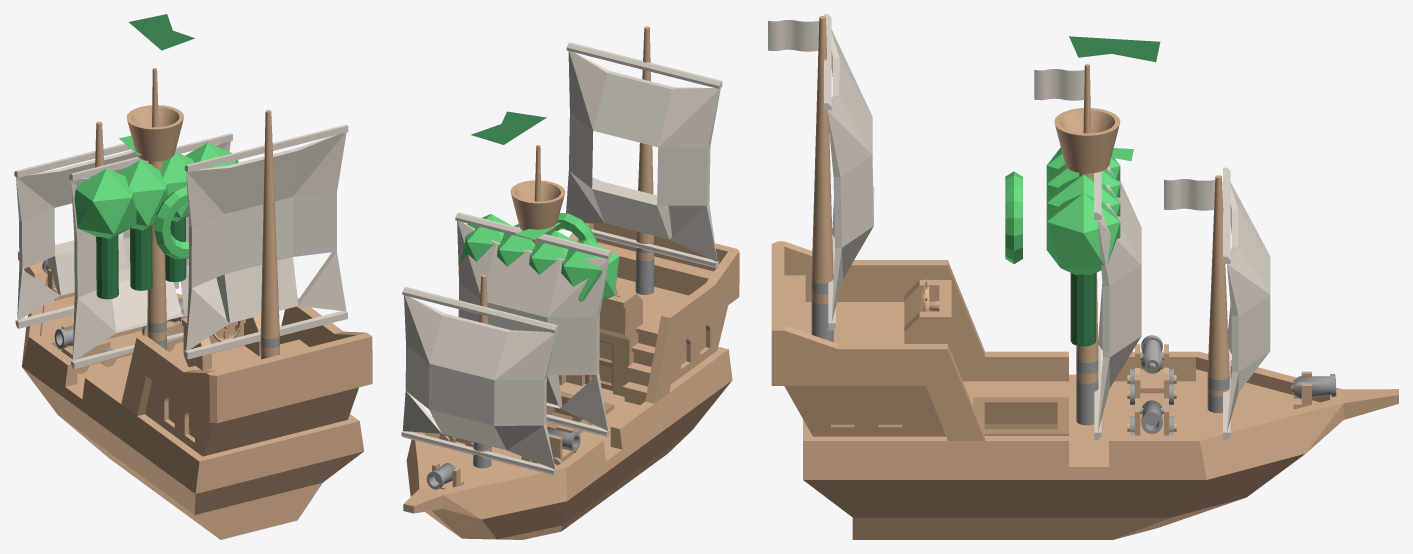
The model's file is ile_08_jungle_emeraude_anime.glb.
The picture shows the model from 3 angles, left to right: view 1: azimuth 30°, elevation 25°; view 2: azimuth 150°, elevation 25°; view 3: azimuth 270°, elevation 25°; orthographic projection. The views are drawn at different scales.
Visible parts, largest first — view 1: navire_pirate_clair_assimp, Feuillage_0, Feuillage_1, Liane_Arc, Tronc_0, Tronc_1, Grand_Pavillon, Feuillage_2, Tronc_2, Feuillage_3; view 2: navire_pirate_clair_assimp, Feuillage_0, Grand_Pavillon, Feuillage_3, Feuillage_1, Feuillage_2, Liane_Arc; view 3: navire_pirate_clair_assimp, Feuillage_3, Tronc_3, Grand_Pavillon, Liane_Arc, Feuillage_2, Feuillage_1.
Part boxes in pixels (left/top/right/bottom): navire_pirate_clair_assimp: left=14, top=68, right=372, bottom=539; Feuillage_0: left=74, top=168, right=136, bottom=238; Feuillage_1: left=117, top=160, right=168, bottom=230; Liane_Arc: left=154, top=186, right=188, bottom=259; Tronc_0: left=96, top=235, right=118, bottom=299; Tronc_1: left=130, top=226, right=152, bottom=290; Grand_Pavillon: left=129, top=14, right=194, bottom=50; Feuillage_2: left=160, top=152, right=193, bottom=221; Tronc_2: left=165, top=218, right=186, bottom=282; Feuillage_3: left=185, top=143, right=238, bottom=169; navire_pirate_clair_assimp: left=401, top=26, right=739, bottom=539; Feuillage_0: left=561, top=238, right=619, bottom=301; Grand_Pavillon: left=471, top=111, right=546, bottom=144; Feuillage_3: left=459, top=214, right=511, bottom=263; Feuillage_1: left=529, top=230, right=575, bottom=274; Feuillage_2: left=497, top=224, right=535, bottom=266; Liane_Arc: left=544, top=213, right=597, bottom=243; navire_pirate_clair_assimp: left=768, top=14, right=1398, bottom=539; Feuillage_3: left=1046, top=193, right=1120, bottom=274; Tronc_3: left=1070, top=273, right=1096, bottom=346; Grand_Pavillon: left=1069, top=36, right=1160, bottom=62; Liane_Arc: left=1005, top=171, right=1022, bottom=263; Feuillage_2: left=1046, top=174, right=1120, bottom=221; Feuillage_1: left=1046, top=164, right=1120, bottom=202.
Size of the model in its own units: 29.07 by 70.76 by 80.98.
